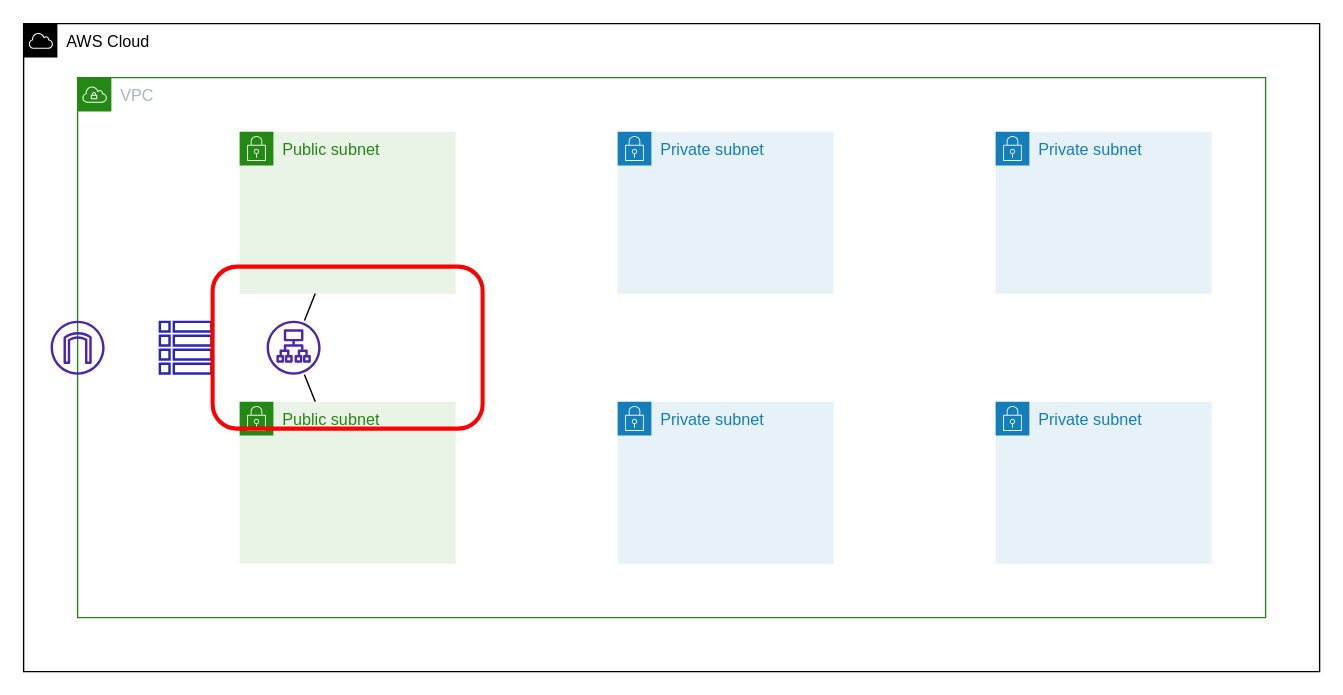
Some shapes in this 1343 by 695 pixel diagram are drawn without their labels. Each missing label, with the box of its shape:
ALB: (266, 320, 320, 374)
igw-rtb: (158, 320, 212, 374)
